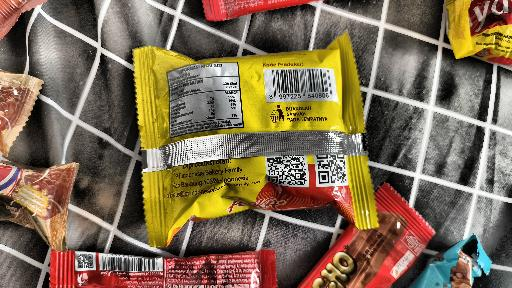momotaro: (114, 41, 395, 239)
